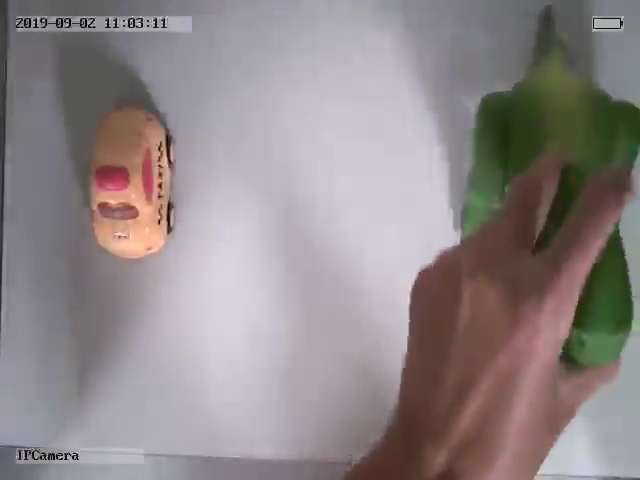car: (89, 106, 178, 261)
